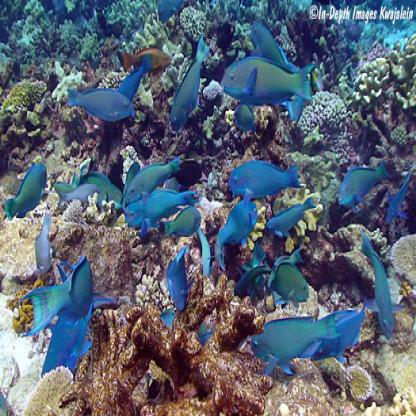parrot: (25, 266, 99, 344), (219, 53, 313, 104), (250, 315, 338, 369), (360, 237, 401, 343), (172, 35, 209, 140), (120, 148, 184, 204), (3, 157, 51, 228), (66, 81, 135, 130), (228, 159, 299, 202), (338, 161, 388, 205), (164, 244, 191, 321), (240, 341, 241, 343), (191, 321, 192, 323)
